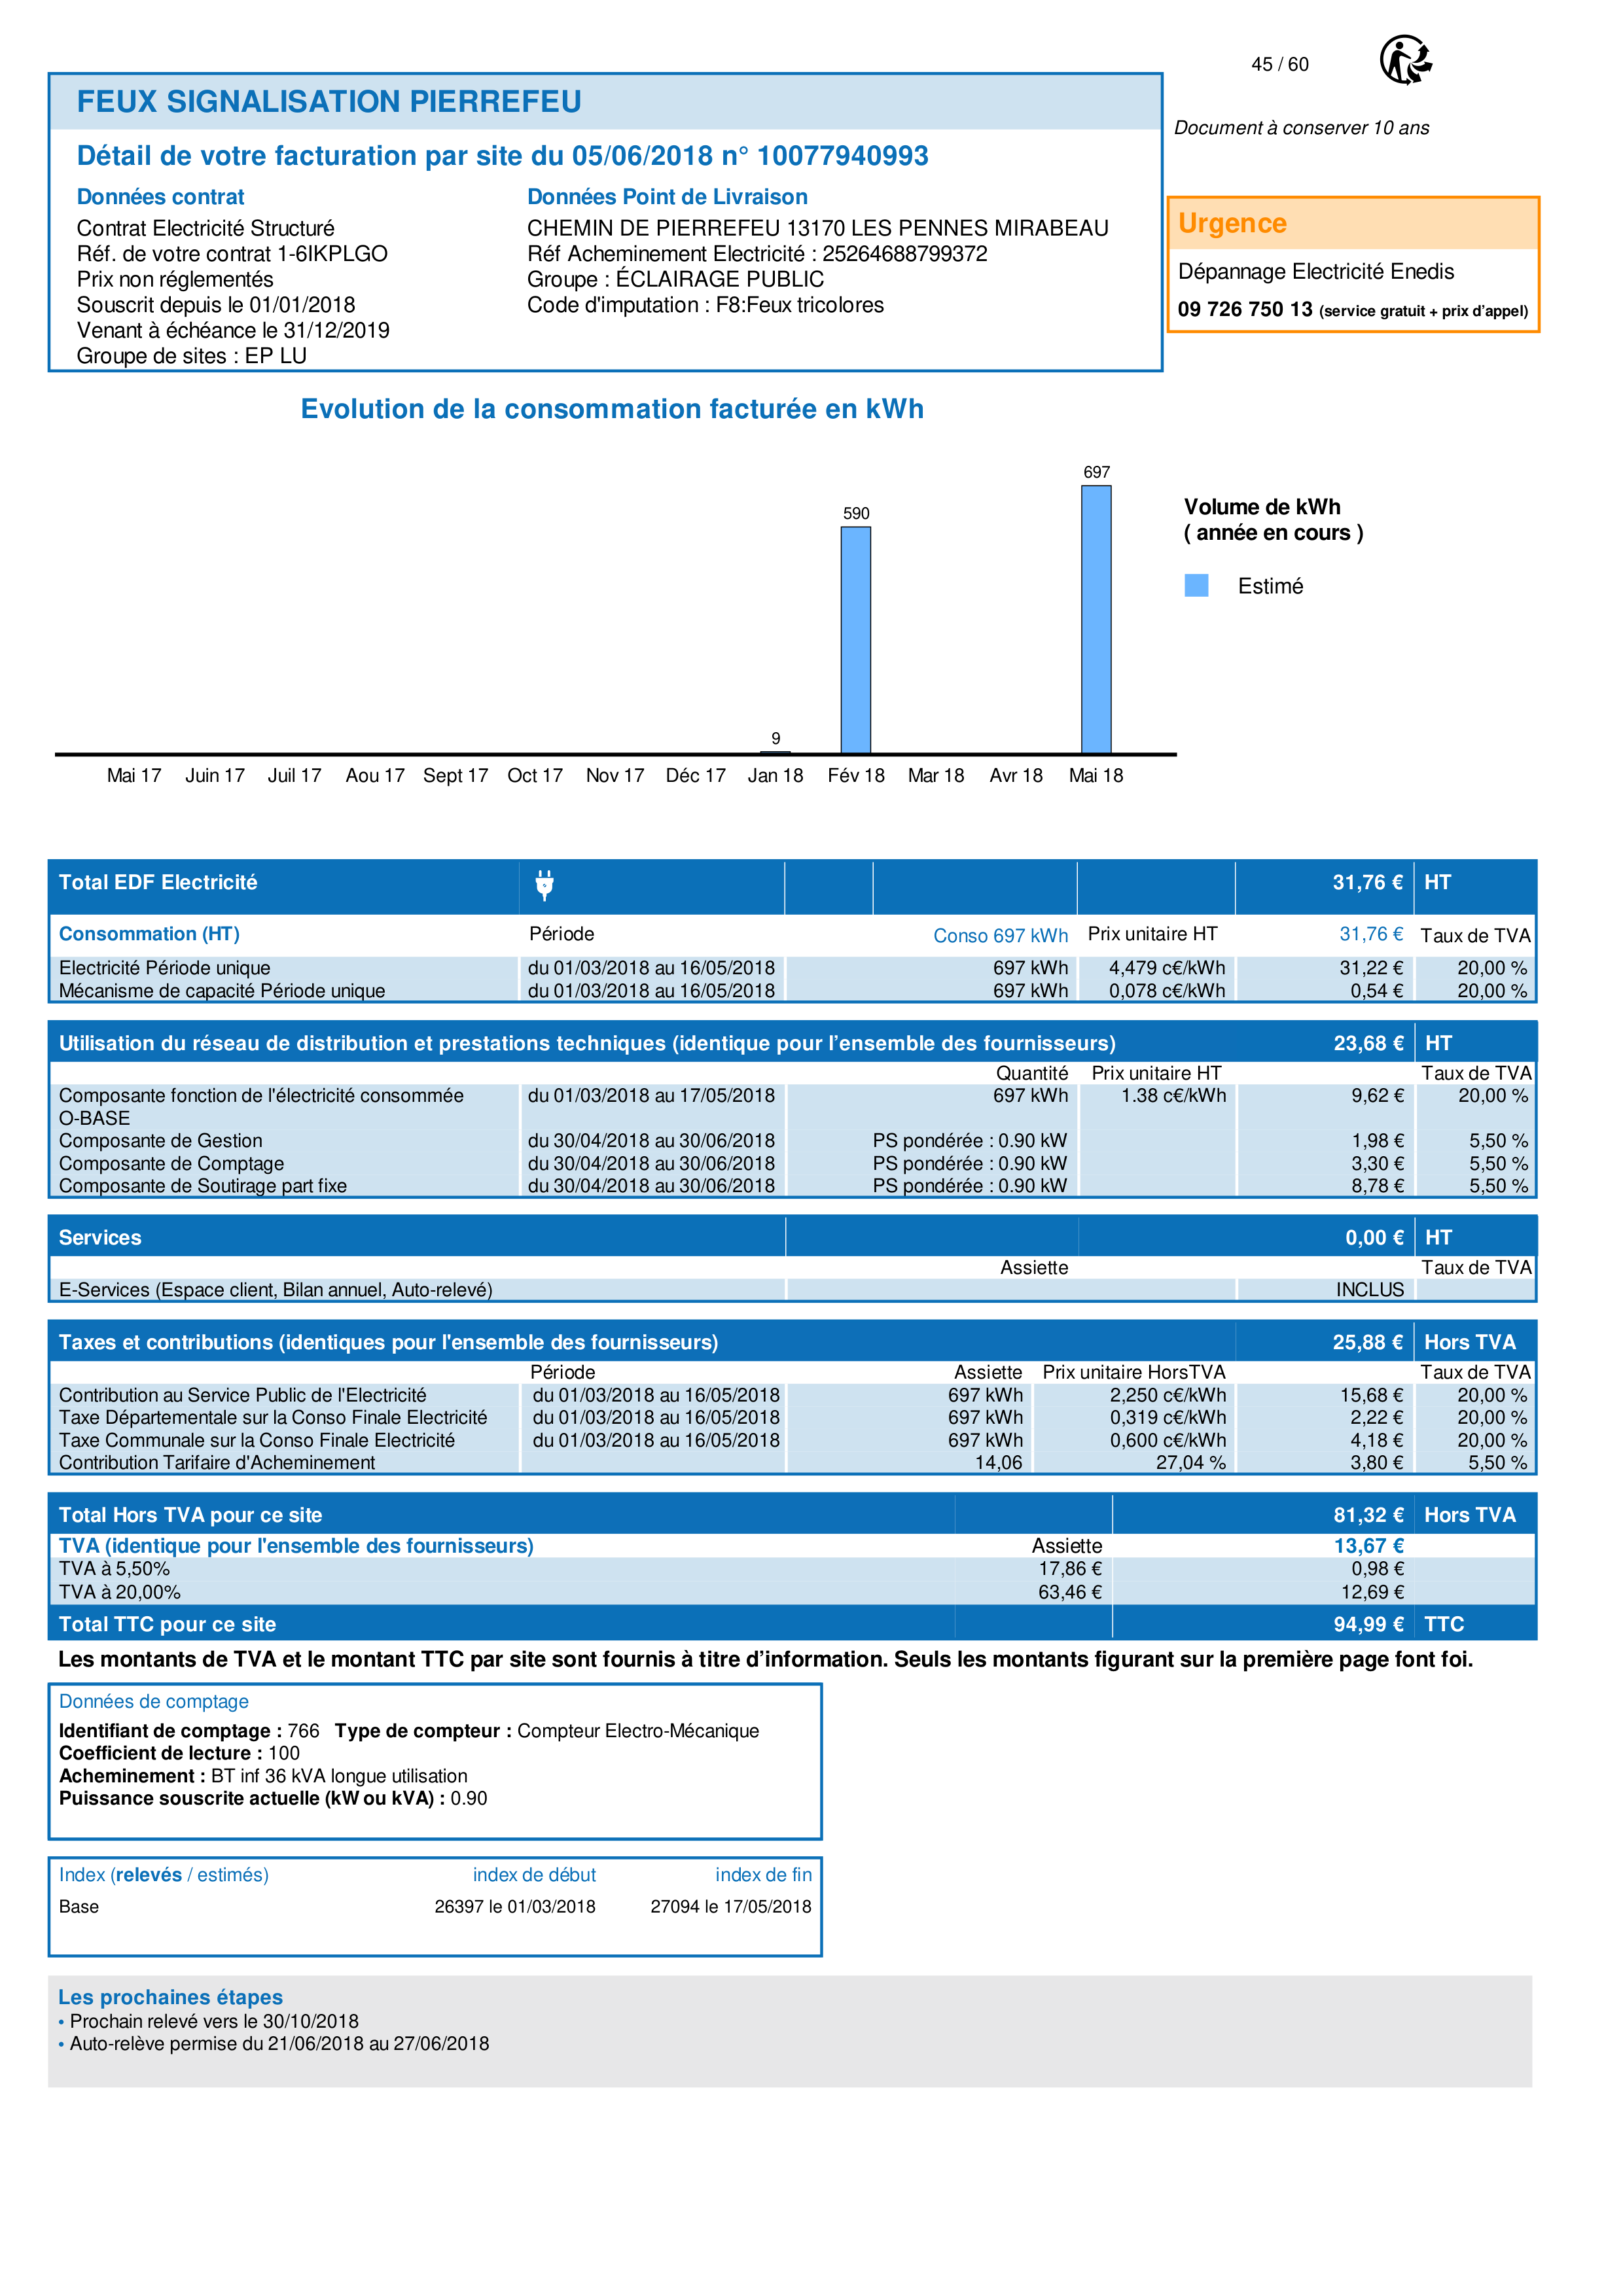area: (47, 1856, 821, 1957)
type_indicator: (48, 1858, 287, 1892)
